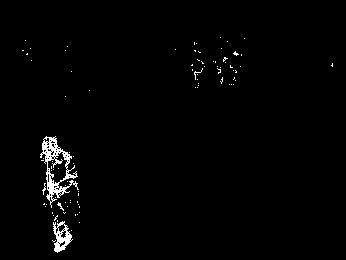person: (40, 136, 81, 253)
